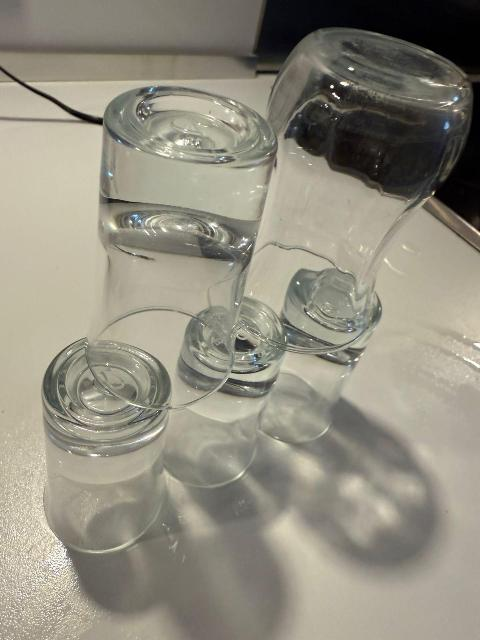Cam: (45, 46, 480, 545), (256, 21, 465, 345), (75, 89, 267, 395), (28, 355, 176, 555), (165, 308, 277, 484), (281, 273, 369, 447)
